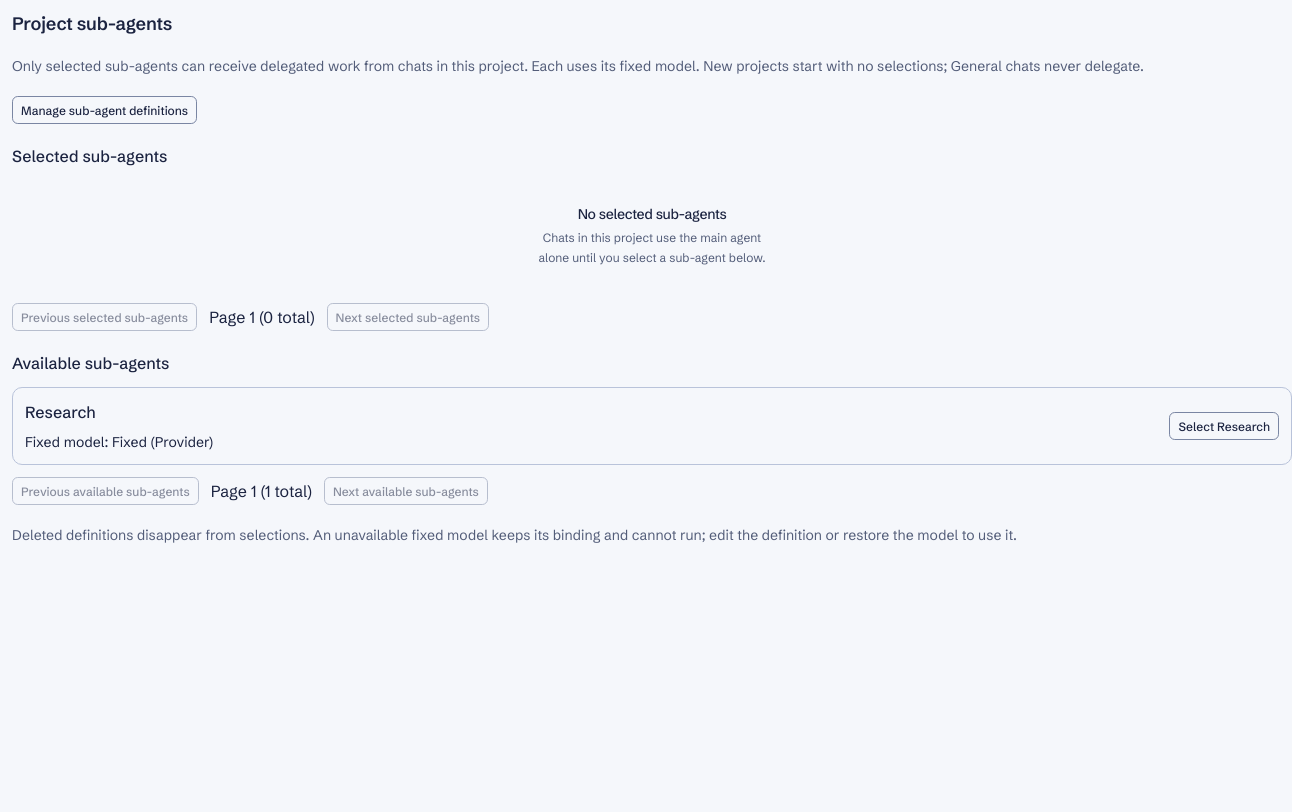
Test: starts with no selections and adds a worker using the observed project revision
This screenshot has width=1292, height=812.
Expected: the text "No selected sub-agents" is shown, [578,204,726,224]
Expected: the text "Fixed model: Fixed (Provider)" is shown, [25,433,213,451]
Click the button "Select Research" at (1224, 426), box [1169,412,1279,440]
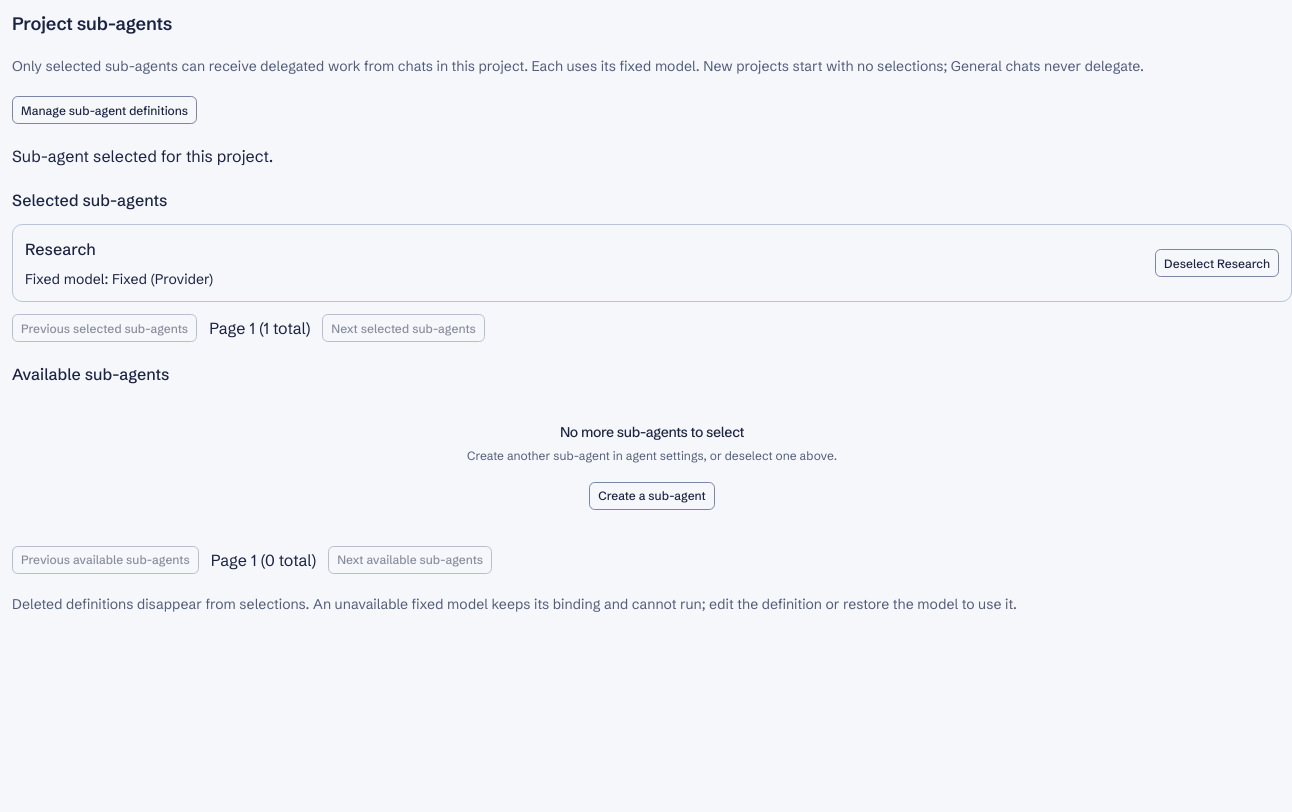
Expected: the button "Deselect Research" is shown
Click the button "Deselect Research" at (1217, 263), box [1155,249,1279,277]
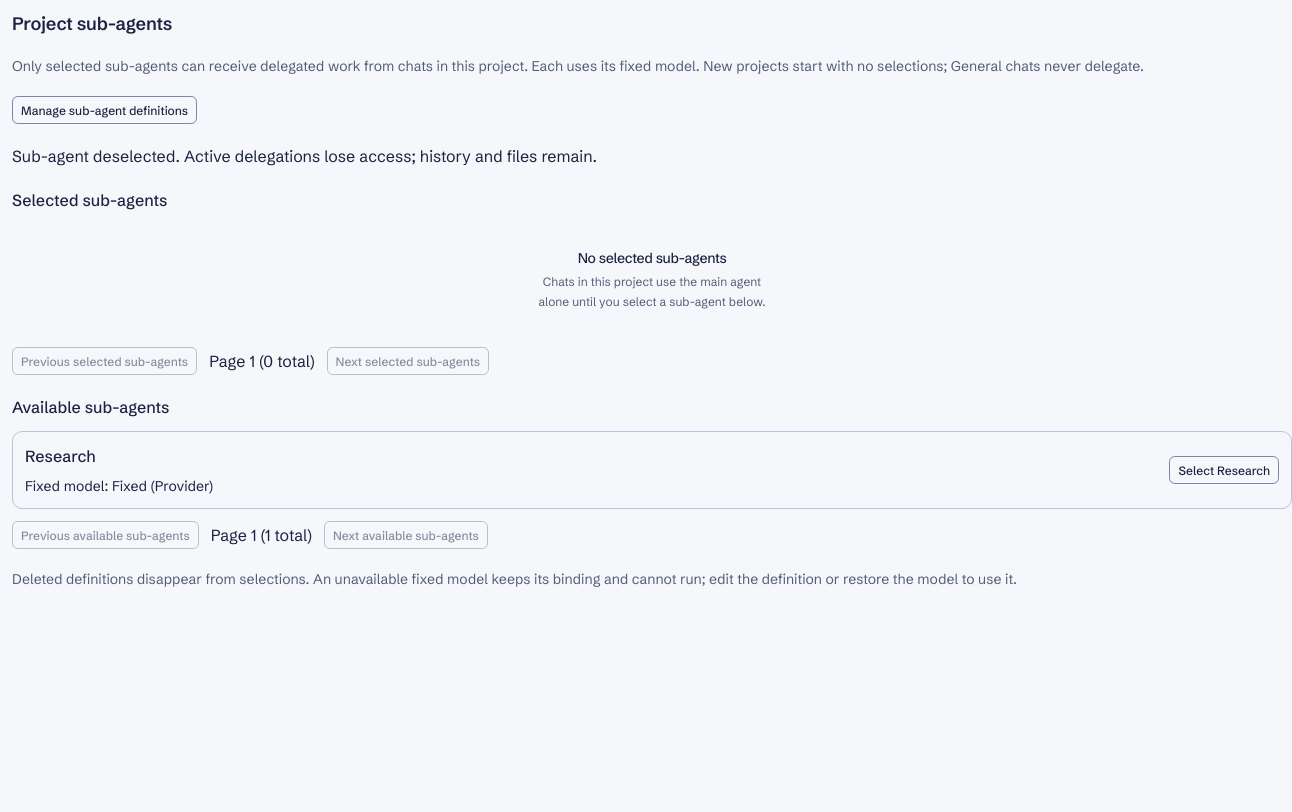
Expected: the text "No selected sub-agents" is shown, [578,248,726,268]
